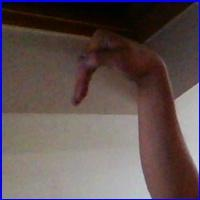del: (69, 27, 165, 112)
